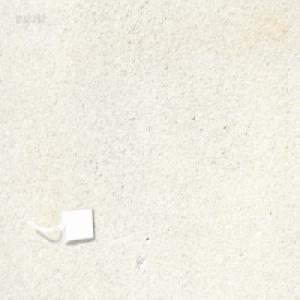LuggageTag: (26, 203, 95, 245)
